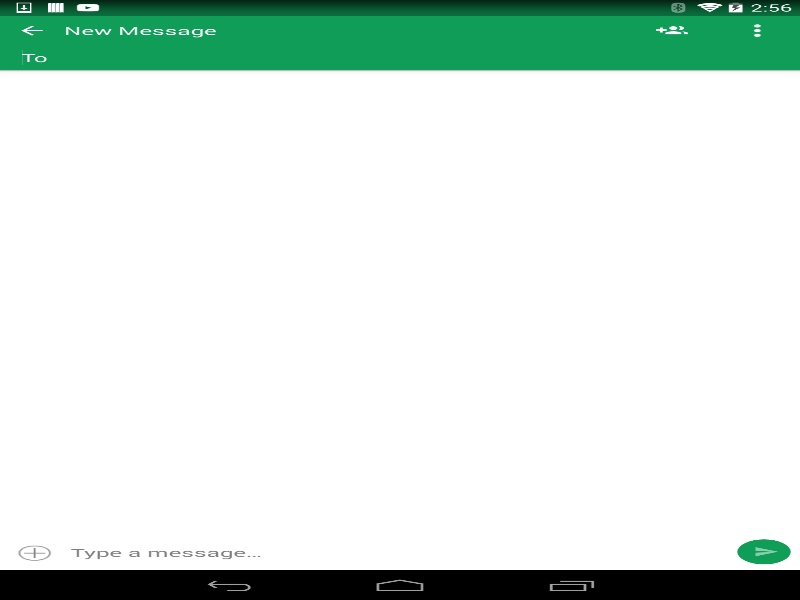Button: (714, 15, 800, 45), (753, 545, 779, 557)
Input: (70, 537, 728, 567)
